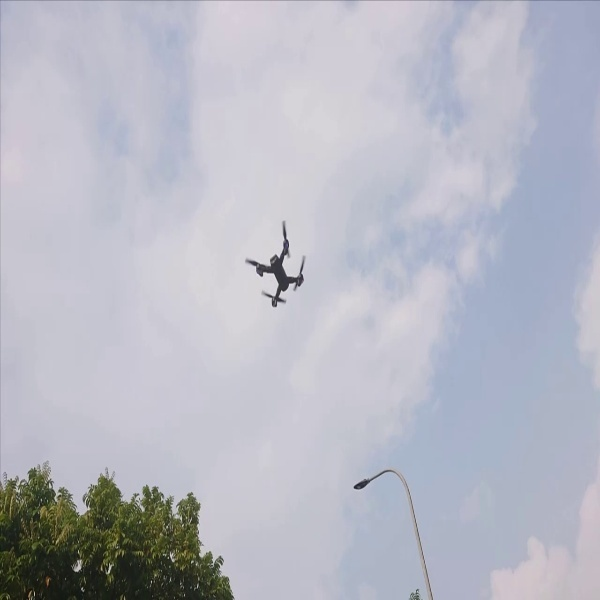drone: (242, 225, 310, 310)
